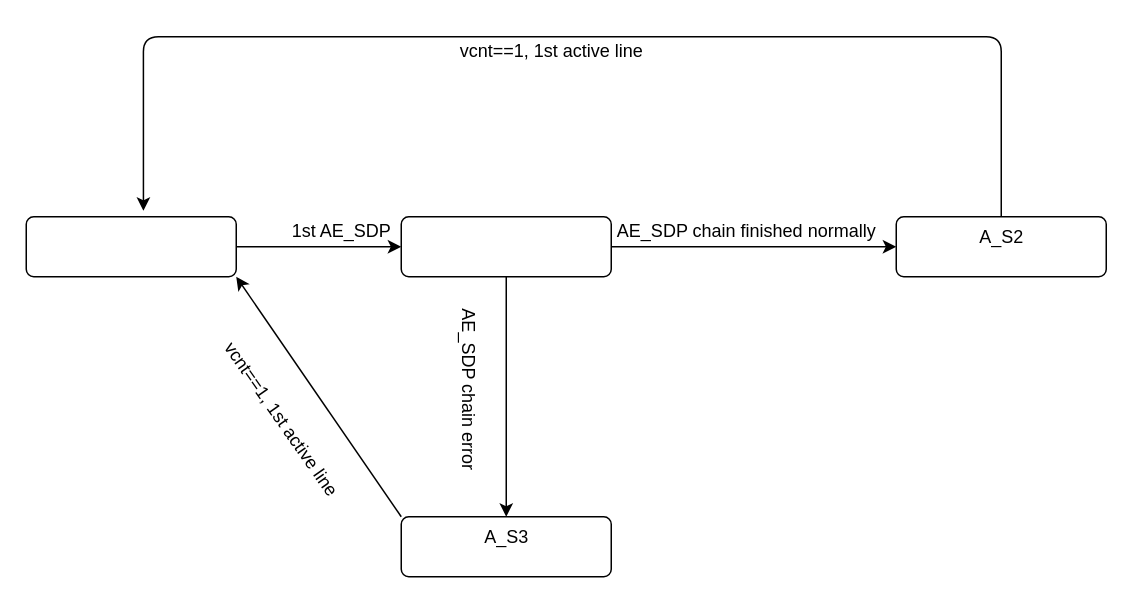
Some shapes in this 1133 by 603 pixel diagram are drawn without their labels. Each missing label, with the centre of its shape:
A_S0: point (130, 246)
A_S1: point (505, 246)
